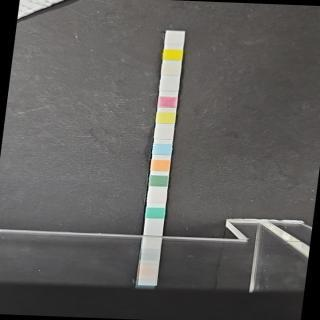mark: (150, 175, 168, 187), (162, 63, 180, 75), (156, 127, 173, 139), (158, 111, 175, 123), (166, 32, 183, 44), (149, 190, 165, 202), (154, 143, 170, 155), (159, 96, 176, 107), (164, 49, 181, 60), (147, 207, 163, 218), (152, 160, 168, 171), (162, 79, 178, 90)
